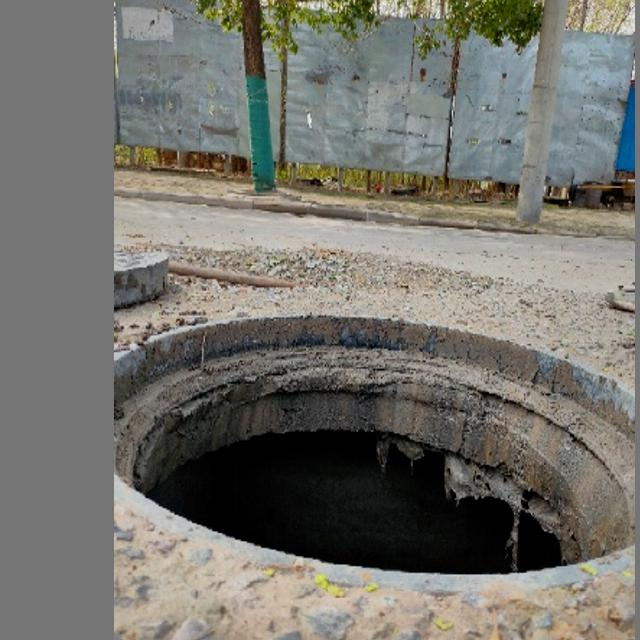lose: (113, 315, 634, 589)
